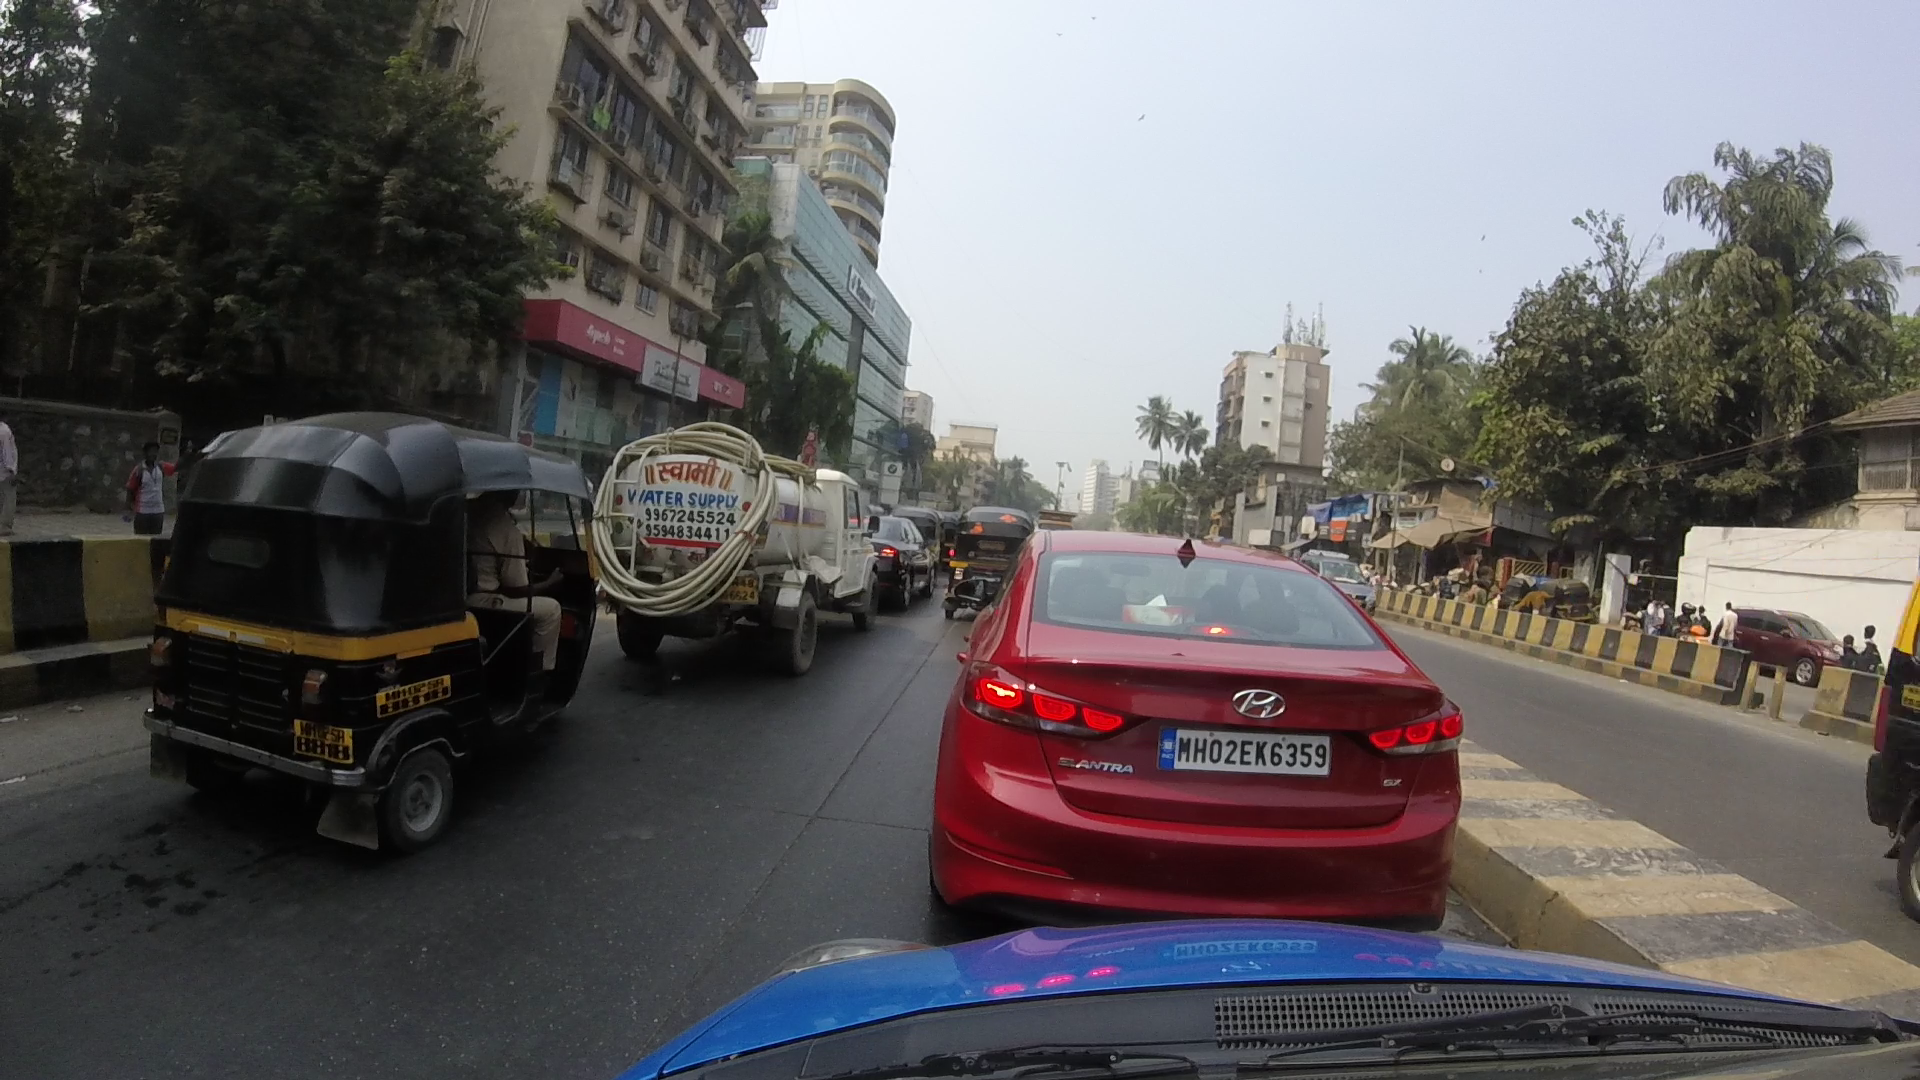car: (938, 533, 1458, 957), (858, 513, 922, 601)
rickshaw: (169, 415, 584, 836), (934, 495, 1022, 613)
truck: (611, 433, 861, 683)
